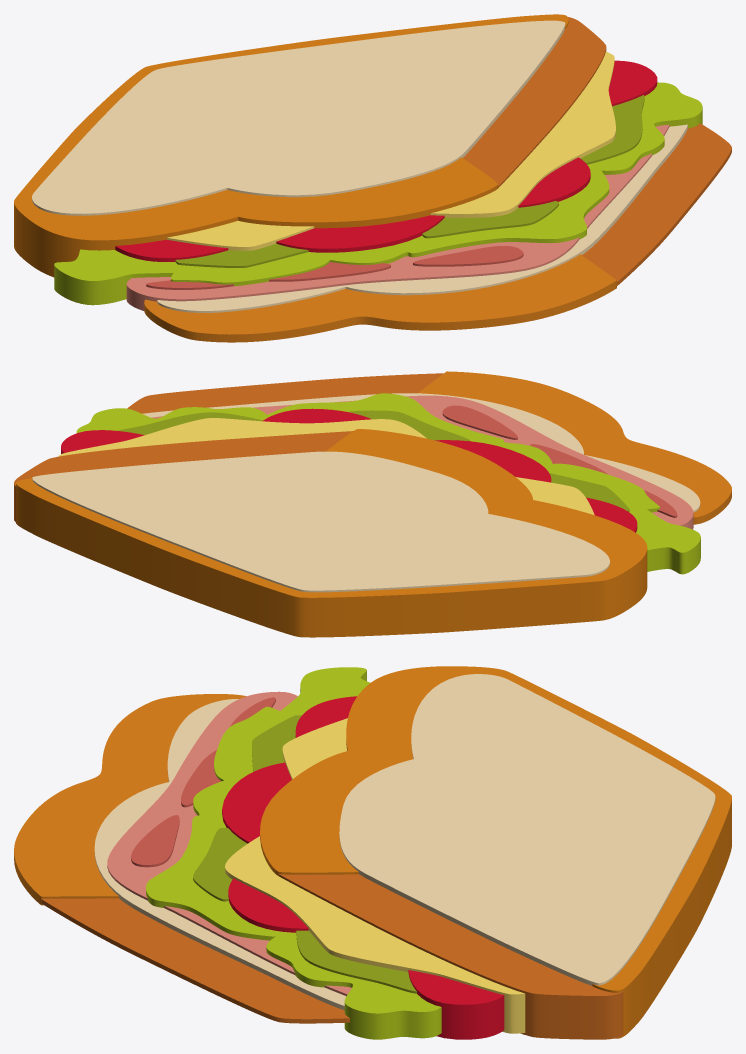
The model's file is emoji_u1f96a.glb.
The picture shows the model from 3 angles, top to bottom: view 1: azimuth 30°, elevation 25°; view 2: azimuth 150°, elevation 25°; view 3: azimuth 270°, elevation 25°; orthographic projection. The views are drawn at different scales.
Visible parts, largest first — view 1: emoji_u1f96a; view 2: emoji_u1f96a; view 3: emoji_u1f96a.
Part boxes in pixels (bbox=[...]): emoji_u1f96a: bbox=[14, 14, 731, 342]; emoji_u1f96a: bbox=[14, 371, 731, 637]; emoji_u1f96a: bbox=[14, 666, 731, 1039].
Size of the model in its own units: 0.034 by 0.0024 by 0.0298.
